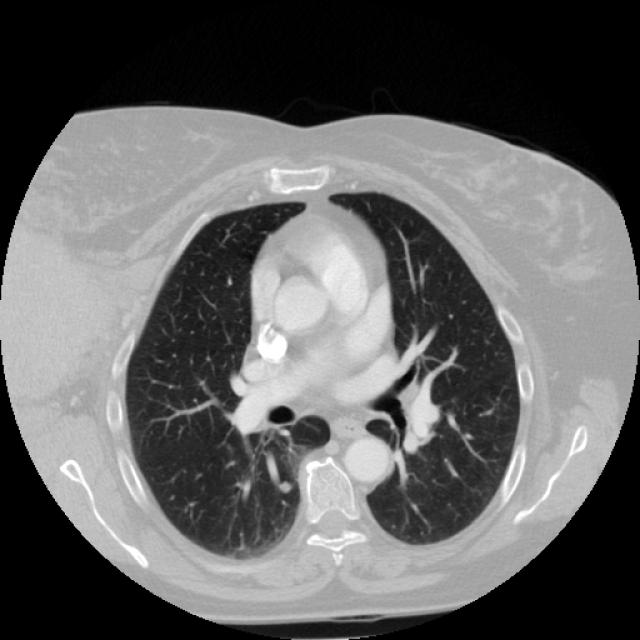nodule: (271, 472, 299, 500)
